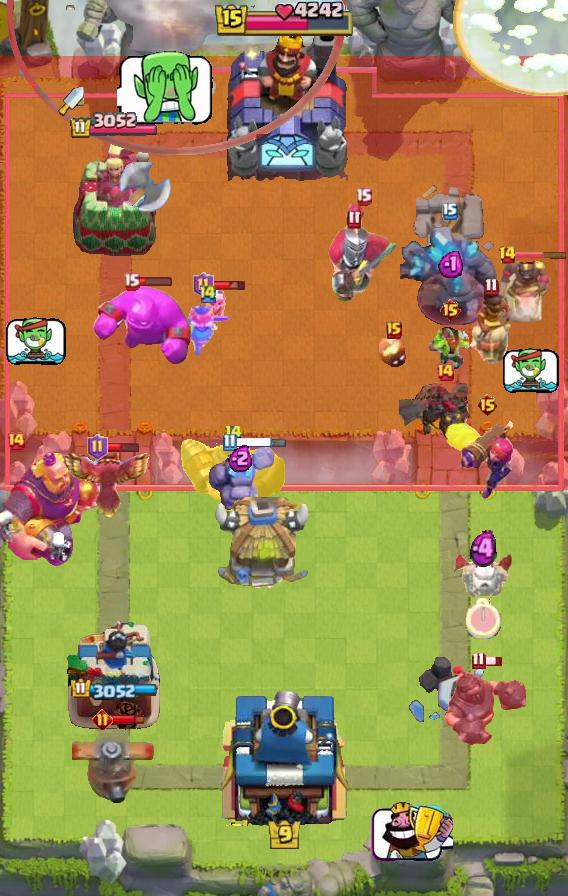archer-evolution: (399, 375, 491, 455)
bar: (70, 138, 158, 256)
bomber: (379, 338, 409, 370)
cannoneer-tower: (400, 225, 500, 325)
clock: (213, 0, 355, 40)
clone: (91, 285, 199, 367)
dark-prince: (72, 716, 156, 804)
electro-spirit: (471, 530, 498, 568), (228, 444, 254, 472), (437, 250, 462, 279)
elite-barbarian: (468, 284, 514, 364)
elixir: (467, 597, 502, 638)
emote: (234, 436, 288, 449), (514, 249, 568, 259), (110, 713, 146, 726), (213, 279, 248, 291), (105, 441, 140, 453), (137, 276, 173, 287), (483, 655, 503, 667)
freeze: (491, 257, 553, 325)
goblin: (203, 288, 231, 330)
golden-knight: (63, 445, 155, 521)
hog-rider: (184, 304, 232, 358)
king-tower: (219, 21, 349, 181), (214, 684, 354, 826)
lightning: (0, 453, 104, 571)
mega-minion: (457, 416, 517, 502)
mini-pekka: (451, 551, 515, 599)
phoenix-big: (452, 0, 567, 96)
prince: (212, 497, 314, 593)
queen-tower: (65, 617, 163, 731)
royal-ghost: (6, 1, 345, 156)
royal-giant: (111, 162, 171, 222)
royal-guardian: (442, 664, 532, 748)
selected: (69, 112, 159, 140), (70, 678, 157, 700)
skeleton: (118, 48, 215, 126), (369, 800, 453, 864), (5, 317, 66, 366), (504, 348, 561, 394)
text: (193, 272, 215, 298), (438, 298, 461, 322), (477, 393, 500, 417), (87, 434, 108, 460), (91, 709, 112, 730), (198, 283, 218, 305), (435, 362, 455, 382), (6, 431, 26, 451), (498, 245, 517, 265), (225, 425, 244, 443), (355, 187, 373, 205), (123, 273, 140, 291), (442, 202, 458, 220), (386, 321, 402, 339), (223, 433, 238, 452), (470, 651, 485, 669), (485, 276, 499, 295)
valkyrie-evolution: (208, 443, 274, 515)
wall-breaker-evolution: (327, 201, 399, 303)
wizard: (177, 436, 289, 506)
zap: (427, 325, 473, 371)
